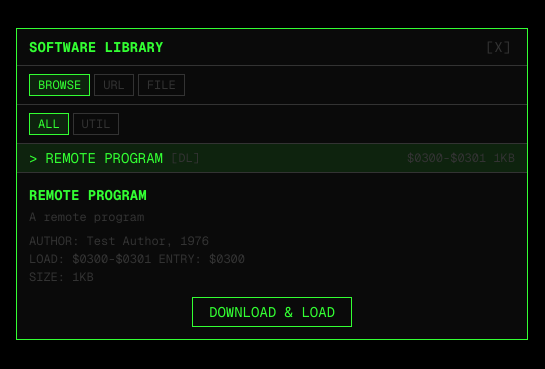
Test case: SoftwareLibraryModal › browse tab - loading › shows error on remote download failure
This screenshot has width=545, height=369.
Click the button "DOWNLOAD & LOAD" at [272, 312], box x1=192 y1=297 x2=352 y2=327
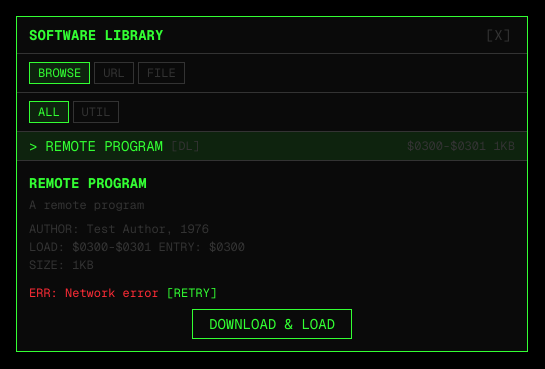
Check: the text "ERR: Network error" is shown, box x1=29 y1=285 x2=159 y2=301
Check: the button "[RETRY]" is shown, box x1=167 y1=285 x2=217 y2=301
